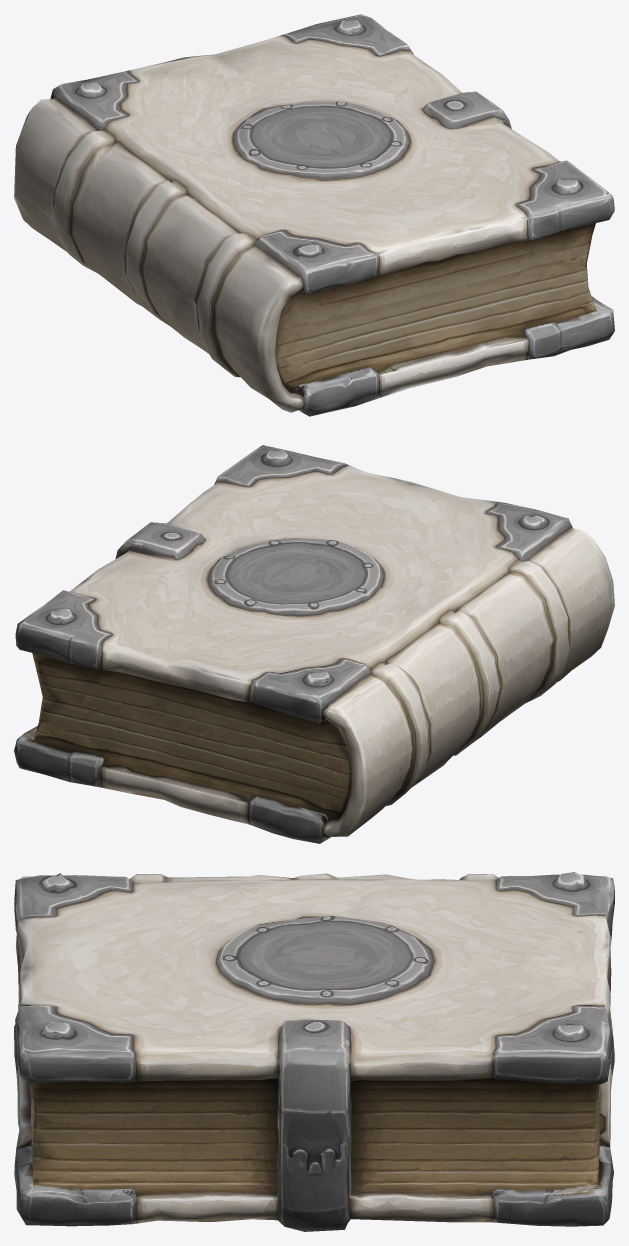
Rendered from Item_Spellbook.fbx.
3 views of the same model, one above another, from view 1: azimuth 30°, elevation 25°; view 2: azimuth 150°, elevation 25°; view 3: azimuth 270°, elevation 25° (orthographic). The views are drawn at different scales.
Parts seen in each view (by area): view 1: texture_mapping; view 2: texture_mapping; view 3: texture_mapping.
Boxes of the visible parts, x1,y1,x2,y2 form: texture_mapping: (14,14,614,416); texture_mapping: (14,445,614,843); texture_mapping: (14,872,614,1231).
Bounding box in the file's own units: 0.8578 × 1 × 0.3576.
Materials: 1 (1 with a texture image).
